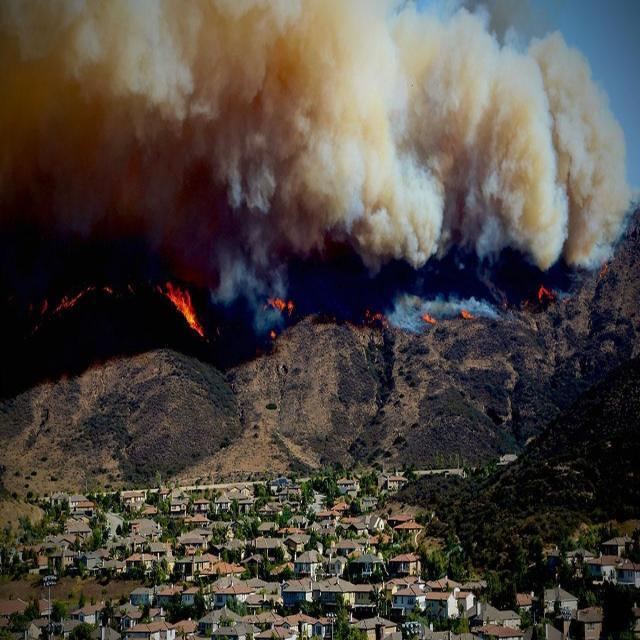Fire: (163, 282, 205, 338), (56, 280, 114, 312), (261, 295, 295, 317), (363, 308, 391, 332), (419, 311, 437, 327), (536, 286, 552, 300), (598, 258, 608, 280), (460, 308, 474, 320)
Smoke: (1, 1, 638, 336)
